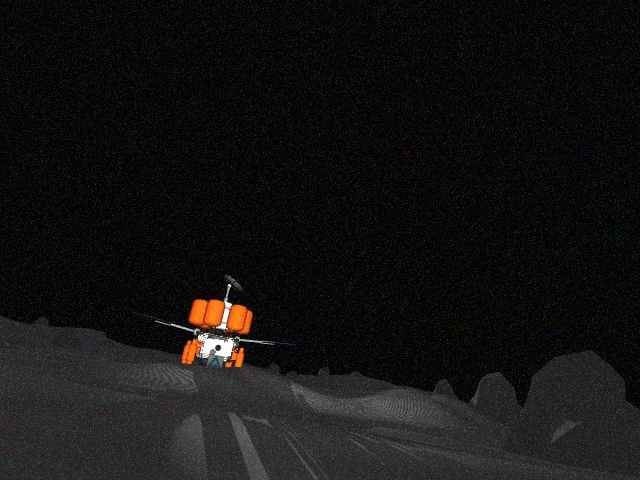homebase: (134, 271, 303, 380)
